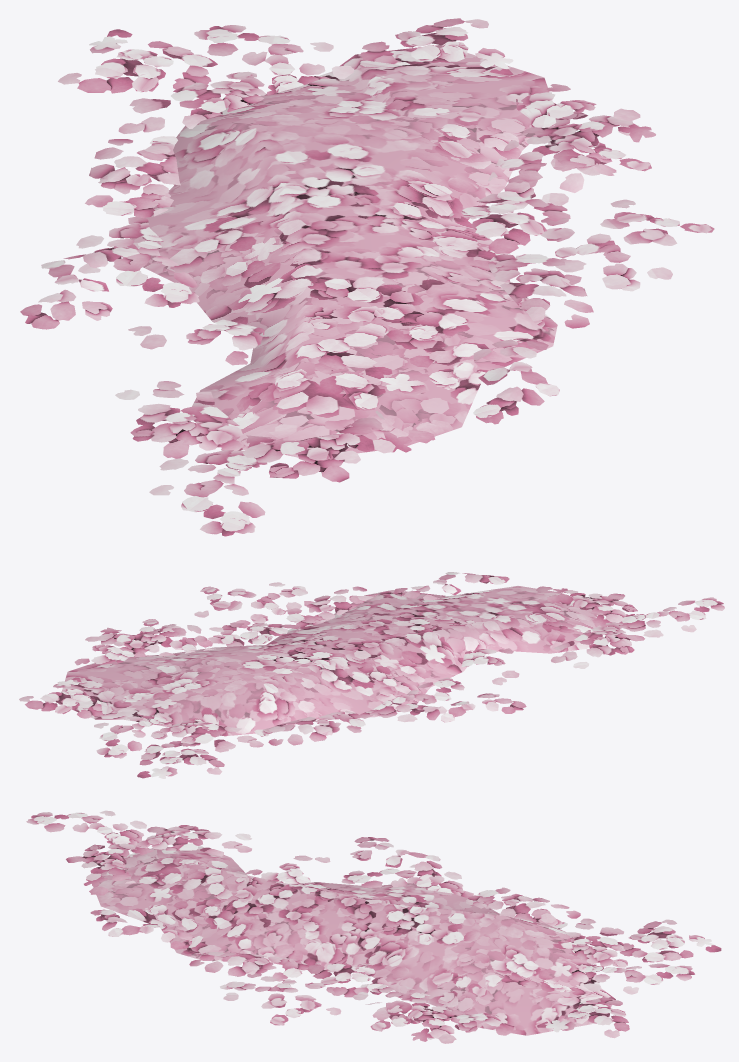
The model's file is SM_Env_CherryBlossom_Pile_03.fbx.
The picture shows the model from 3 angles, top to bottom: view 1: azimuth 30°, elevation 25°; view 2: azimuth 150°, elevation 25°; view 3: azimuth 270°, elevation 25°; orthographic projection. The views are drawn at different scales.
Visible parts, largest first — view 1: SM_Env_CherryBlossom_Pile_03; view 2: SM_Env_CherryBlossom_Pile_03; view 3: SM_Env_CherryBlossom_Pile_03.
Part boxes in pixels (x1,y1,x2,y2): SM_Env_CherryBlossom_Pile_03: (20, 18, 714, 536); SM_Env_CherryBlossom_Pile_03: (19, 572, 724, 778); SM_Env_CherryBlossom_Pile_03: (26, 810, 721, 1043).
Size of the model in its own units: 361 by 17.62 by 452.
